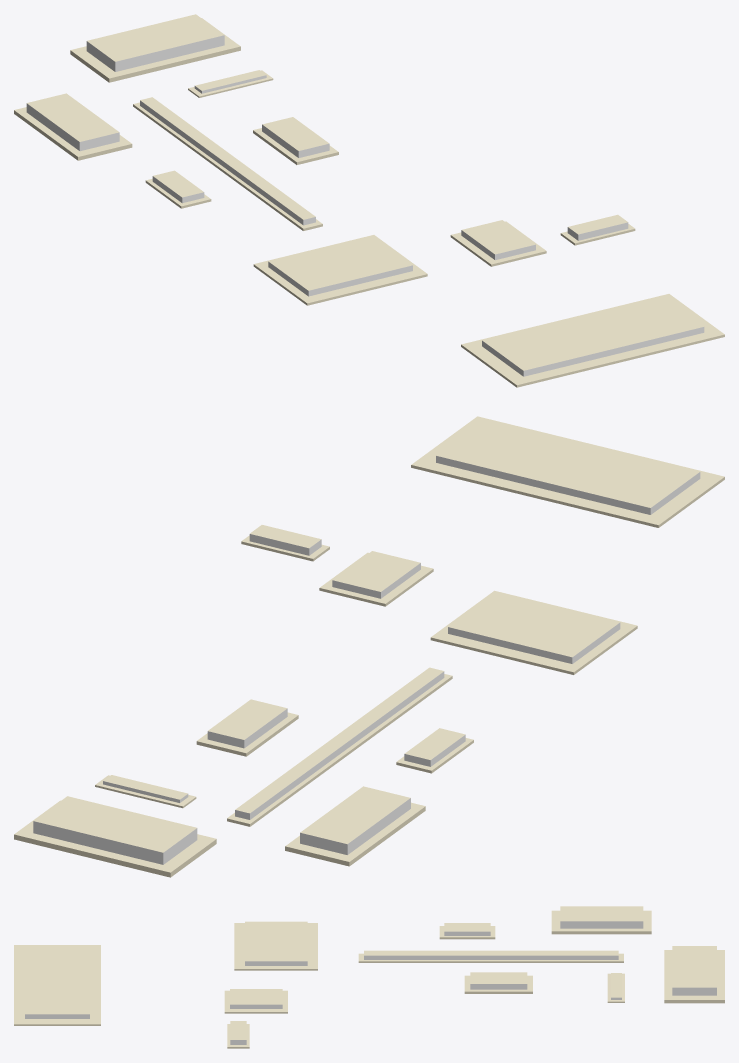
The model's file is CeilingBlocks04.FBX.
The picture shows the model from 3 angles, top to bottom: view 1: azimuth 30°, elevation 25°; view 2: azimuth 150°, elevation 25°; view 3: azimuth 270°, elevation 25°; orthographic projection. The views are drawn at different scales.
Visible parts, largest first — view 1: CeilingBlock001, CeilingBlock002, CeilingBlock008, CeilingBlock004, CeilingBlock006, CeilingBlock003, CeilingBlock007, CeilingBlock005, CeilingBlock010, CeilingBlock009; view 2: CeilingBlock001, CeilingBlock002, CeilingBlock008, CeilingBlock004, CeilingBlock006, CeilingBlock003, CeilingBlock007, CeilingBlock005, CeilingBlock010, CeilingBlock009; view 3: CeilingBlock001, CeilingBlock002, CeilingBlock008, CeilingBlock004, CeilingBlock006, CeilingBlock003, CeilingBlock007, CeilingBlock005, CeilingBlock010, CeilingBlock009.
Part boxes in pixels (x1,y1,x2,y2): CeilingBlock001: [461, 294, 724, 387]; CeilingBlock002: [253, 235, 427, 305]; CeilingBlock008: [70, 14, 240, 82]; CeilingBlock004: [133, 97, 322, 230]; CeilingBlock006: [14, 93, 132, 160]; CeilingBlock003: [450, 220, 546, 266]; CeilingBlock007: [253, 117, 338, 164]; CeilingBlock005: [145, 170, 211, 208]; CeilingBlock010: [560, 214, 635, 245]; CeilingBlock009: [188, 70, 273, 97]; CeilingBlock001: [411, 416, 724, 527]; CeilingBlock002: [430, 590, 637, 674]; CeilingBlock008: [14, 796, 216, 877]; CeilingBlock004: [227, 667, 452, 826]; CeilingBlock006: [285, 786, 425, 866]; CeilingBlock003: [319, 551, 433, 606]; CeilingBlock007: [196, 699, 298, 756]; CeilingBlock005: [396, 728, 473, 773]; CeilingBlock010: [241, 525, 329, 561]; CeilingBlock009: [95, 775, 196, 808]; CeilingBlock001: [14, 945, 100, 1025]; CeilingBlock002: [234, 921, 317, 970]; CeilingBlock008: [664, 946, 724, 1003]; CeilingBlock004: [358, 950, 623, 962]; CeilingBlock006: [551, 906, 651, 934]; CeilingBlock003: [224, 989, 287, 1013]; CeilingBlock007: [464, 972, 532, 993]; CeilingBlock005: [439, 923, 495, 939]; CeilingBlock010: [227, 1021, 249, 1048]; CeilingBlock009: [607, 973, 624, 1002].
Size of the model in its own units: 2426 by 124 by 5492.
